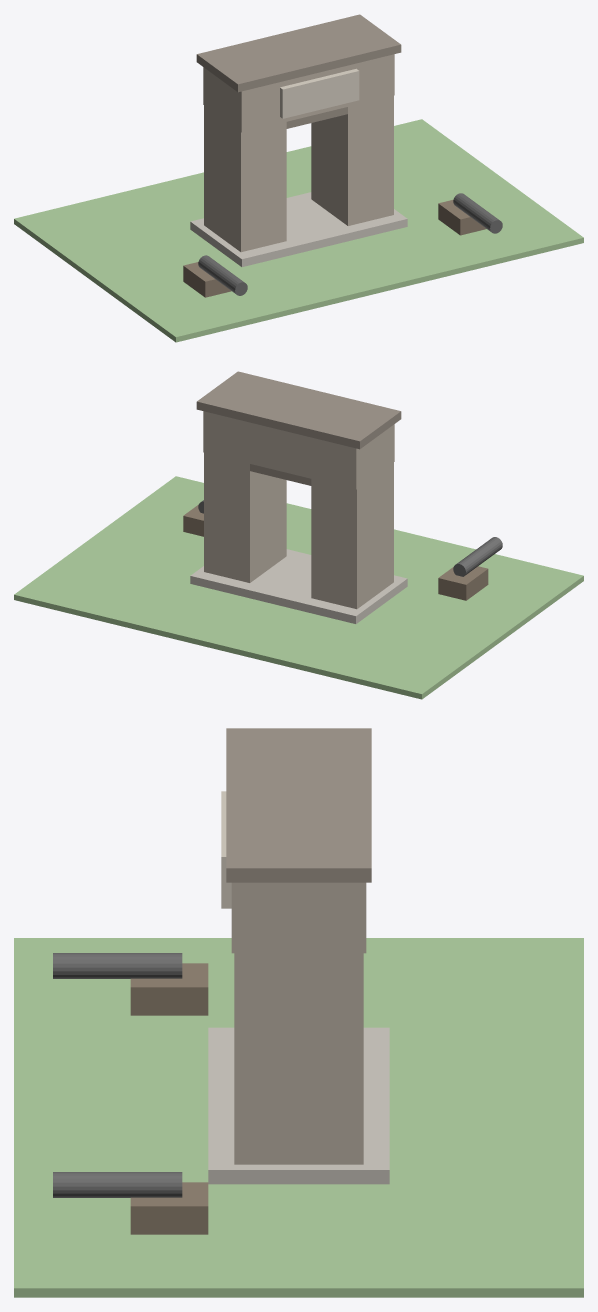
File: fort-today.glb
3 views of the same model, one above another, from view 1: azimuth 30°, elevation 25°; view 2: azimuth 150°, elevation 25°; view 3: azimuth 270°, elevation 25° (orthographic). The views are drawn at different scales.
Parts seen in each view (by area): view 1: geometry_0, geometry_2, geometry_3, geometry_5, geometry_4, geometry_1, geometry_6, geometry_8, geometry_10, geometry_9, geometry_11, geometry_7; view 2: geometry_0, geometry_2, geometry_3, geometry_5, geometry_4, geometry_1, geometry_8, geometry_9, geometry_10, geometry_7; view 3: geometry_0, geometry_3, geometry_5, geometry_1, geometry_4, geometry_8, geometry_10, geometry_9, geometry_11, geometry_6.
Boxes of the visible parts, bbox=[...] form: geometry_0: bbox=[14, 119, 583, 342]; geometry_2: bbox=[204, 105, 286, 252]; geometry_3: bbox=[311, 95, 393, 225]; geometry_5: bbox=[196, 14, 401, 92]; geometry_4: bbox=[203, 54, 394, 132]; geometry_1: bbox=[190, 192, 407, 266]; geometry_6: bbox=[280, 68, 359, 118]; geometry_8: bbox=[183, 262, 231, 297]; geometry_10: bbox=[438, 199, 486, 235]; geometry_9: bbox=[198, 255, 247, 295]; geometry_11: bbox=[453, 193, 502, 233]; geometry_7: bbox=[286, 107, 347, 128]; geometry_0: bbox=[14, 476, 583, 699]; geometry_2: bbox=[311, 462, 393, 609]; geometry_3: bbox=[204, 452, 286, 582]; geometry_5: bbox=[196, 371, 401, 449]; geometry_4: bbox=[203, 411, 394, 489]; geometry_1: bbox=[190, 549, 407, 623]; geometry_8: bbox=[438, 566, 488, 600]; geometry_9: bbox=[453, 537, 502, 576]; geometry_10: bbox=[183, 505, 203, 536]; geometry_7: bbox=[250, 464, 311, 485]; geometry_0: bbox=[14, 938, 583, 1297]; geometry_3: bbox=[234, 953, 363, 1164]; geometry_5: bbox=[226, 728, 371, 882]; geometry_1: bbox=[208, 1027, 389, 1184]; geometry_4: bbox=[231, 882, 366, 953]; geometry_8: bbox=[130, 963, 208, 1015]; geometry_10: bbox=[130, 1182, 208, 1234]; geometry_9: bbox=[53, 953, 182, 978]; geometry_11: bbox=[53, 1172, 182, 1197]; geometry_6: bbox=[221, 791, 231, 908].
Bounding box in the file's own units: 3.2 × 1.38 × 2.2.
